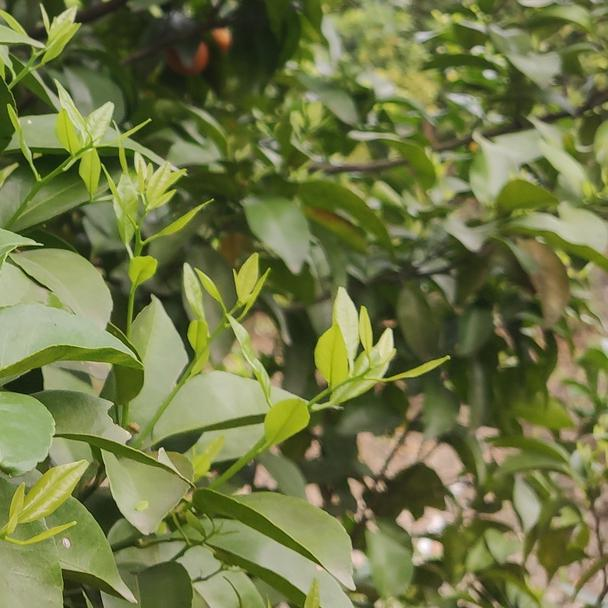shoot: (227, 313, 456, 478), (11, 102, 147, 199), (182, 249, 272, 378), (112, 160, 198, 286), (2, 7, 84, 90)
